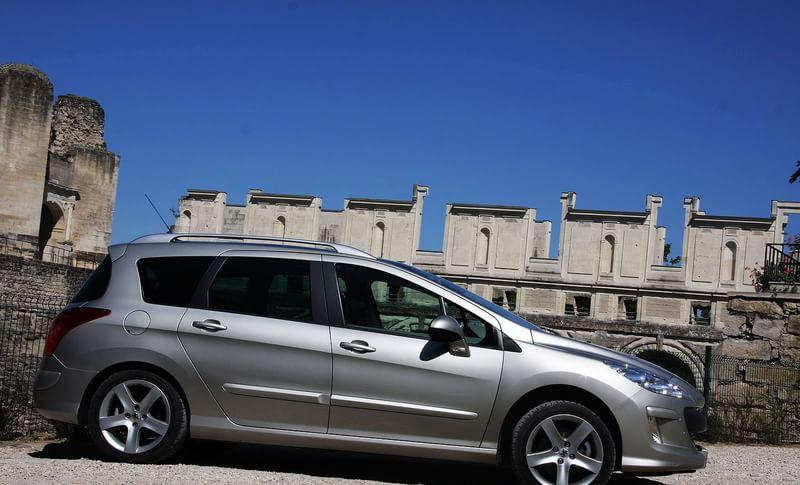Wagon: (31, 233, 708, 485)
